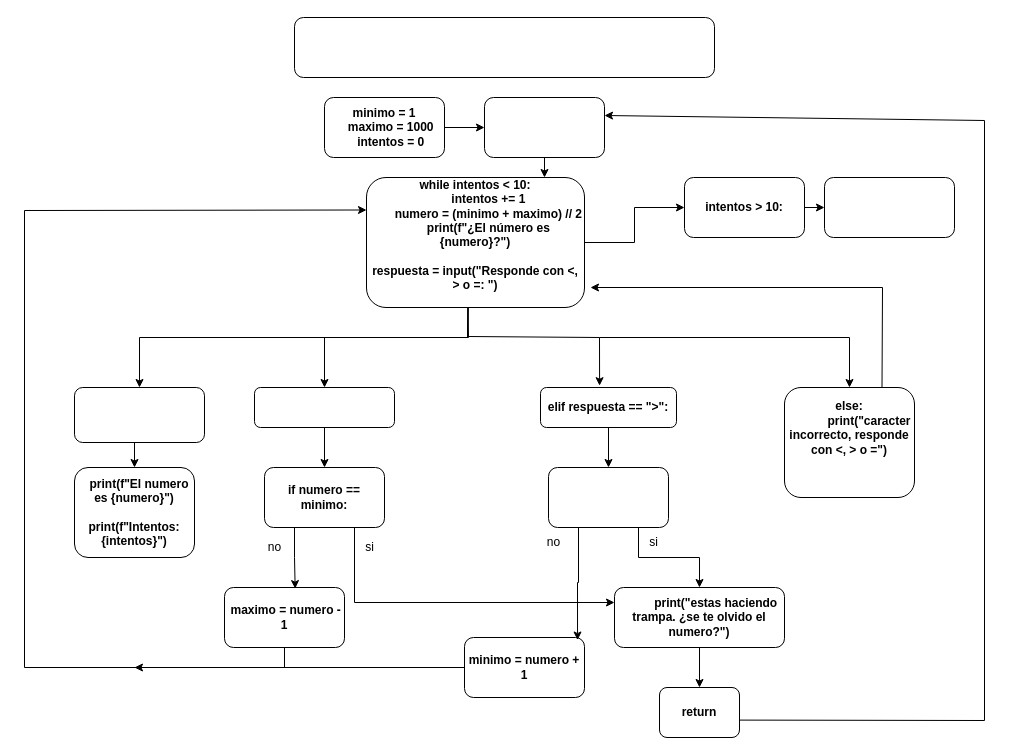
Some shapes in this 1010 by 755 pixel diagram are drawn without their labels. Here are the shapes that lost their labels. From the top down, the box of each, then its label:
(294, 16, 714, 78): Diagrama de flujo del punto B Programa que adivina el numero
(484, 96, 604, 158): print("Piensa un numero entre 1 y 1000")
(824, 176, 954, 238): print("No pude adivinar el número en 10 intentos")
(74, 386, 204, 442): if respuesta == "=":
(254, 386, 394, 428): elif respuesta == "<":
(548, 466, 668, 528): if numero == maximo:
